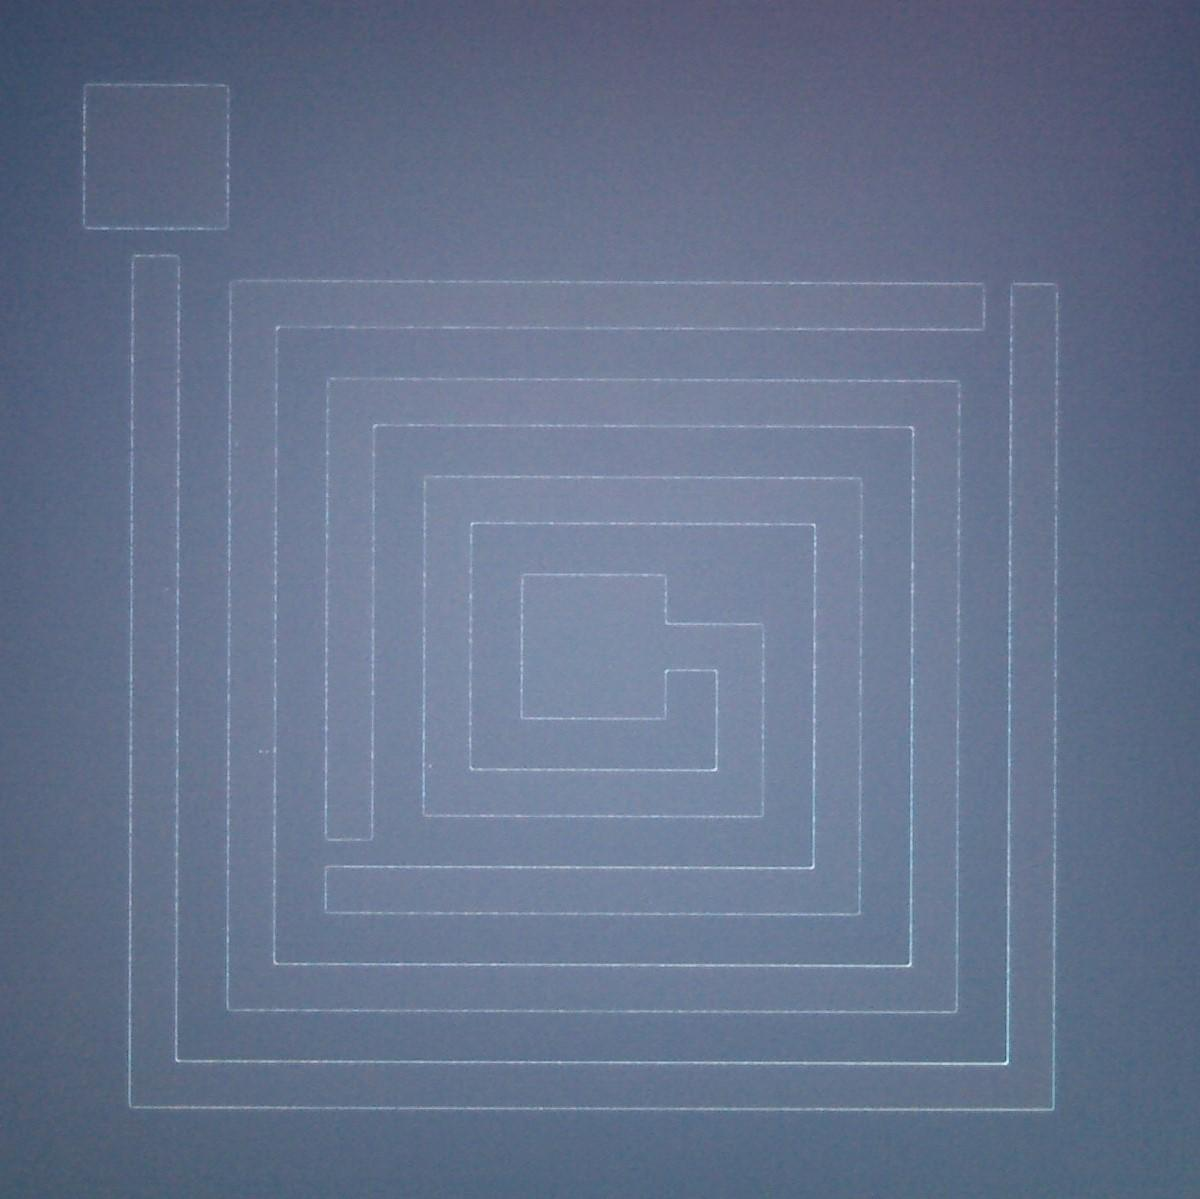cut: (69, 205, 238, 268), (304, 807, 394, 925), (966, 261, 1072, 354)
s_point: (426, 762, 437, 772), (262, 747, 271, 757), (256, 748, 265, 755)
